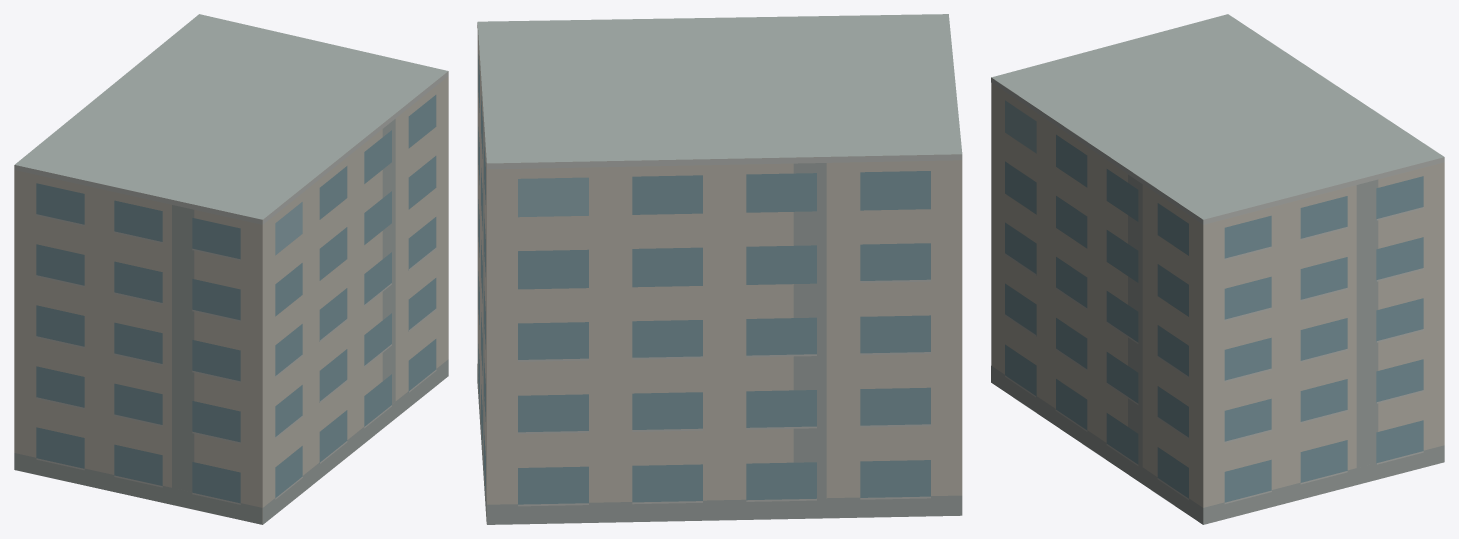
The model's file is survey-upis-32641257.glb.
3 renders of one model, left to right at view 1: azimuth 30°, elevation 25°; view 2: azimuth 150°, elevation 25°; view 3: azimuth 270°, elevation 25°, orthographic. The views are drawn at different scales.
Parts seen in each view (by area): view 1: survey-upis-32641257.tmp; view 2: survey-upis-32641257.tmp; view 3: survey-upis-32641257.tmp.
Boxes of the visible parts, bbox=[...] form: survey-upis-32641257.tmp: bbox=[14, 14, 448, 524]; survey-upis-32641257.tmp: bbox=[477, 14, 962, 524]; survey-upis-32641257.tmp: bbox=[991, 14, 1444, 524].
Size of the model in its own units: 21.05 by 14.55 by 19.61.
